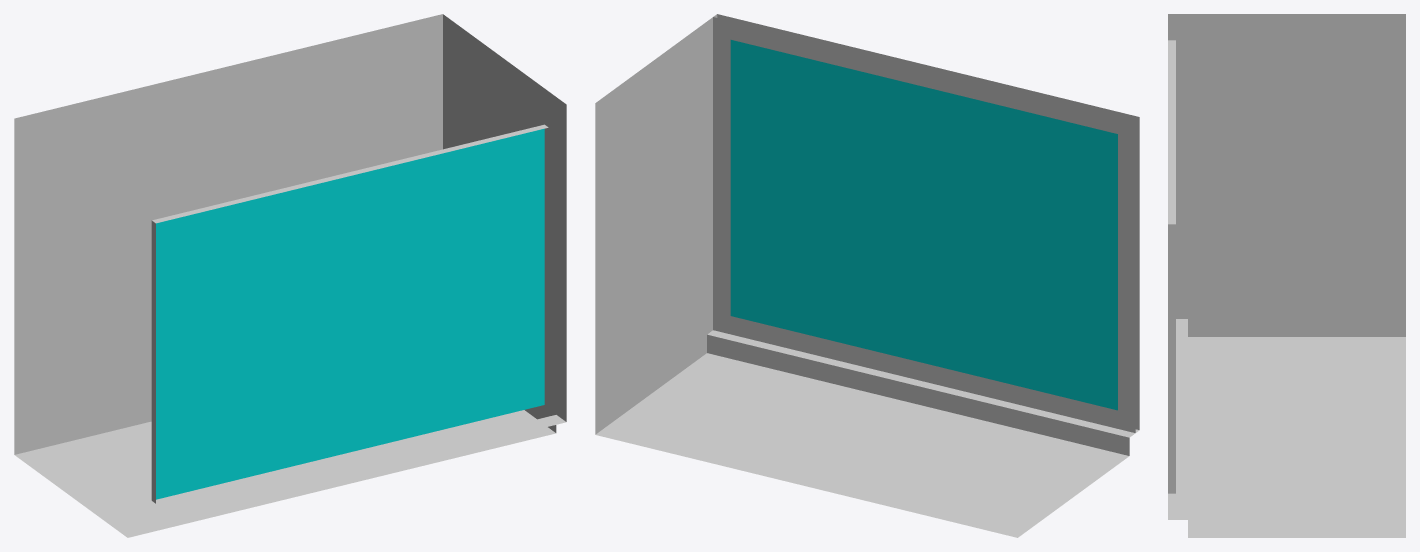
Rendered from counter-set-01-02.glb.
3 views of the same model, side by side, from view 1: azimuth 30°, elevation 25°; view 2: azimuth 150°, elevation 25°; view 3: azimuth 270°, elevation 25° (orthographic). The views are drawn at different scales.
Visible parts, largest first — view 1: 3DGeom-6, 3DGeom-7; view 2: 3DGeom-6, 3DGeom-7; view 3: 3DGeom-6.
Part boxes in pixels (bbox=[...]): 3DGeom-6: bbox=[14, 14, 566, 537]; 3DGeom-7: bbox=[156, 128, 544, 499]; 3DGeom-6: bbox=[595, 14, 1139, 537]; 3DGeom-7: bbox=[730, 40, 1117, 410]; 3DGeom-6: bbox=[1168, 14, 1405, 537].
Size of the model in its own units: 1.2 by 0.9 by 0.6.
